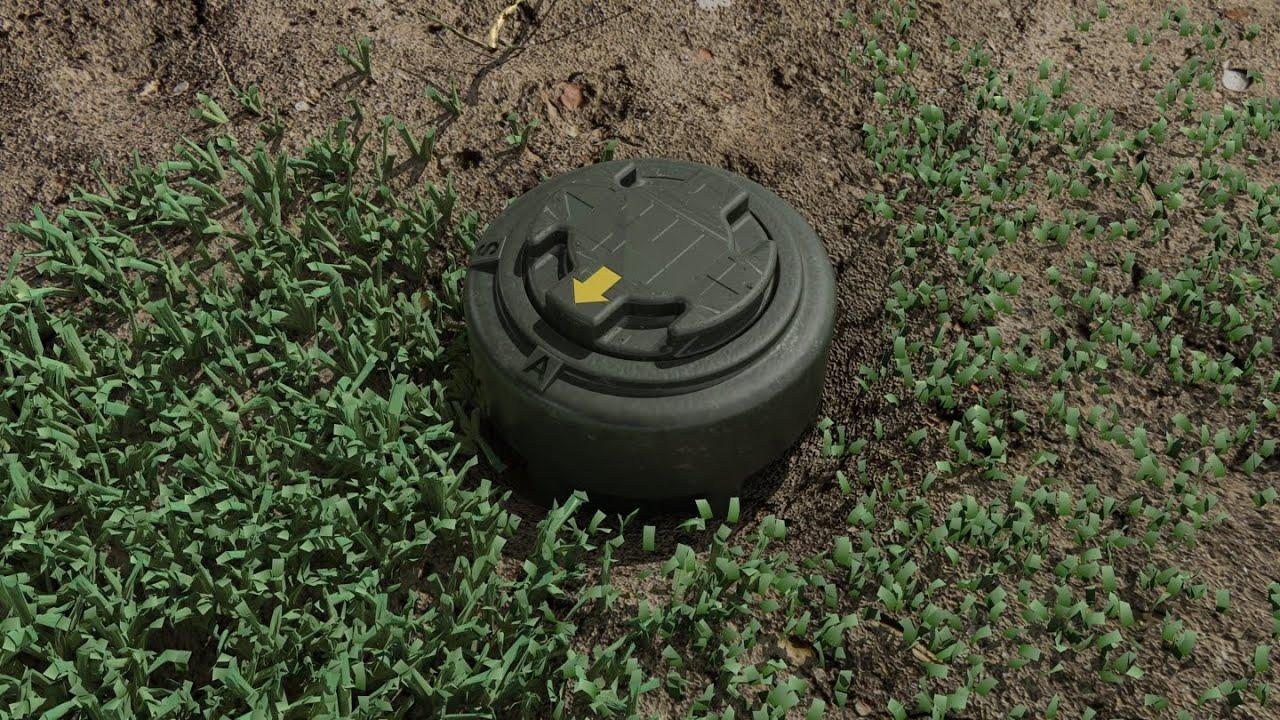pmn: (459, 152, 842, 516)
